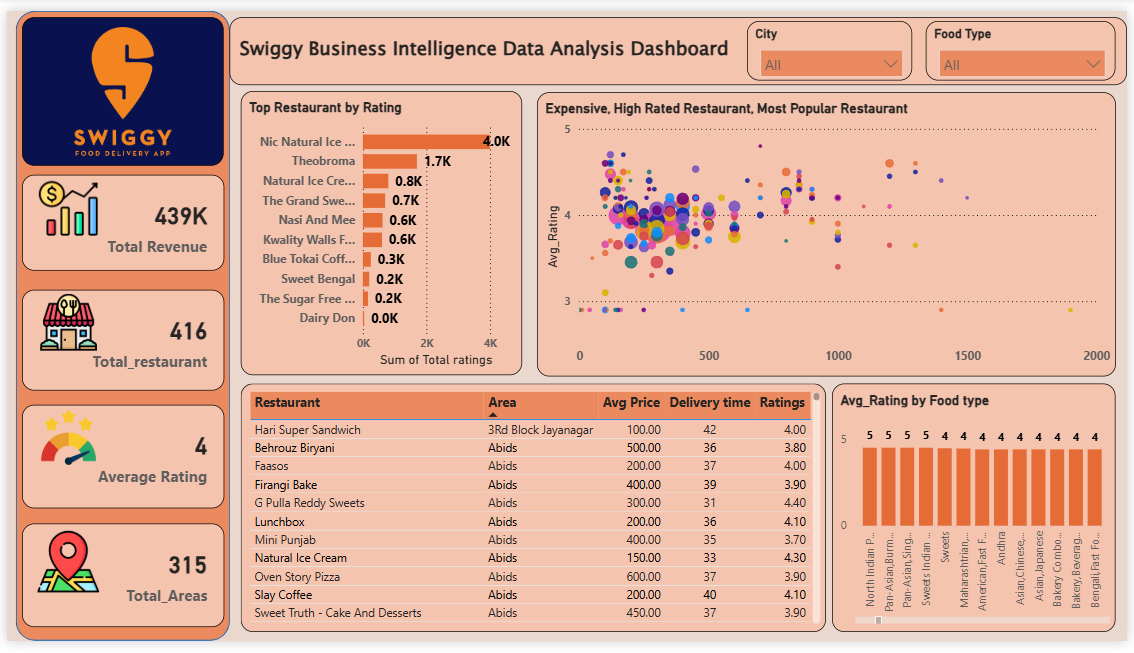

The page's visual inventory and layout, read from the dashboard file:
{"tool":"powerbi","page":{"name":"Page 2","canvas":[1280,720],"ordinal":1},"visuals":[{"type":"shape","box":[10,0,244.6,719.6],"z":0},{"type":"image","box":[17.1,7.1,230.4,169.2],"z":1000},{"type":"cardVisual","title":"Total Revenue","fields":{"Data":["MeasureTable.Total_Revenue"]},"box":[17.3,187.6,230.8,109.6],"z":2000},{"type":"cardVisual","title":"Total Restaurant","fields":{"Data":["MeasureTable.Total_restaurant"]},"box":[17.3,318.9,230.8,115.4],"z":3000},{"type":"cardVisual","title":"Total Areas","fields":{"Data":["MeasureTable.Total_Areas"]},"box":[17.3,585.8,230.8,118.3],"z":4000},{"type":"cardVisual","title":"Average Rating","fields":{"Data":["MeasureTable.Avg_Rating"]},"box":[17.3,450.1,230.8,118.3],"z":5000},{"type":"textbox","box":[253.9,7.2,1025.8,77.9],"z":6000},{"type":"slicer","title":"City","fields":{"Values":["swiggy.City","swiggy.Area"]},"box":[845.5,11.5,189,67.8],"z":7000},{"type":"slicer","title":"Food Type","fields":{"Values":["swiggy.Food type"]},"box":[1050.3,11.5,216.4,67.8],"z":8000},{"type":"clusteredBarChart","title":"Top Restaurant by Rating","fields":{"Category":["swiggy.Restaurant"],"Y":["Sum(swiggy.Total ratings)"]},"box":[266.7,91.7,321.7,325],"z":9000},{"type":"scatterChart","title":"Expensive, High Rated Restaurant, Most Popular Restaurant","fields":{"X":["swiggy.Price"],"Y":["MeasureTable.Avg_Rating"],"Series":["swiggy.City"],"Size":["Sum(swiggy.Total ratings)"]},"box":[605,93.3,661.7,325],"z":10000},{"type":"tableEx","title":"List of Restaurant having Price, Rating, Delivery Time","fields":{"Values":["swiggy.Restaurant","swiggy.Area","Avg(swiggy.Price)","Sum(swiggy.Delivery time)","Avg(swiggy.Avg ratings)"]},"box":[267.1,425.7,668.6,284.3],"z":11000},{"type":"clusteredColumnChart","fields":{"Category":["swiggy.Food type"],"Y":["MeasureTable.Avg_Rating"]},"box":[942.9,425.7,324.3,284.3],"z":12000},{"type":"image","box":[30,187.1,80,77.1],"z":12001},{"type":"image","box":[30,318.6,80,74.3],"z":12002},{"type":"image","box":[30,450,80,74.3],"z":12003},{"type":"image","box":[30,582.9,80,92.9],"z":12004}]}

Visuals, with their boxes in screenshot pixels (x1, y1, x2, y2), scaled from the page's 1280x720 canvas onto the 1134x653 screenshot:
shape: [9, 0, 226, 652]
image: [15, 6, 219, 160]
"Total Revenue" cardVisual: [15, 170, 220, 270]
"Total Restaurant" cardVisual: [15, 289, 220, 394]
"Total Areas" cardVisual: [15, 531, 220, 639]
"Average Rating" cardVisual: [15, 408, 220, 516]
textbox: [225, 7, 1133, 77]
"City" slicer: [749, 10, 917, 72]
"Food Type" slicer: [931, 10, 1122, 72]
"Top Restaurant by Rating" clusteredBarChart: [236, 83, 521, 378]
"Expensive, High Rated Restaurant, Most Popular Restaurant" scatterChart: [536, 85, 1122, 379]
"List of Restaurant having Price, Rating, Delivery Time" tableEx: [237, 386, 829, 644]
clusteredColumnChart - swiggy.Food type x MeasureTable.Avg_Rating: [835, 386, 1123, 644]
image: [27, 170, 97, 240]
image: [27, 289, 97, 356]
image: [27, 408, 97, 476]
image: [27, 529, 97, 613]
